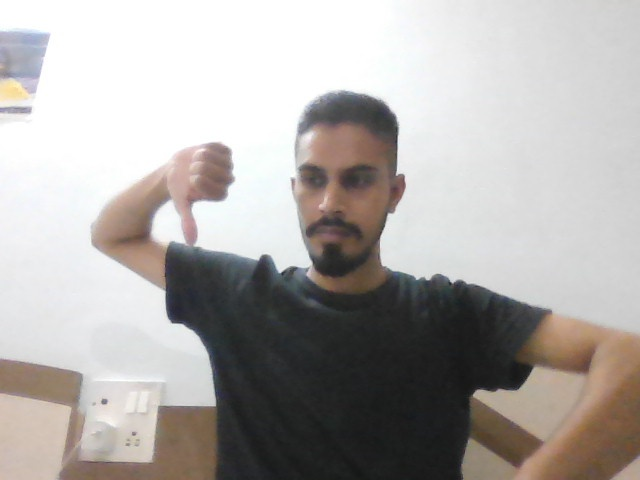ThumbsDown: (160, 139, 240, 245)
